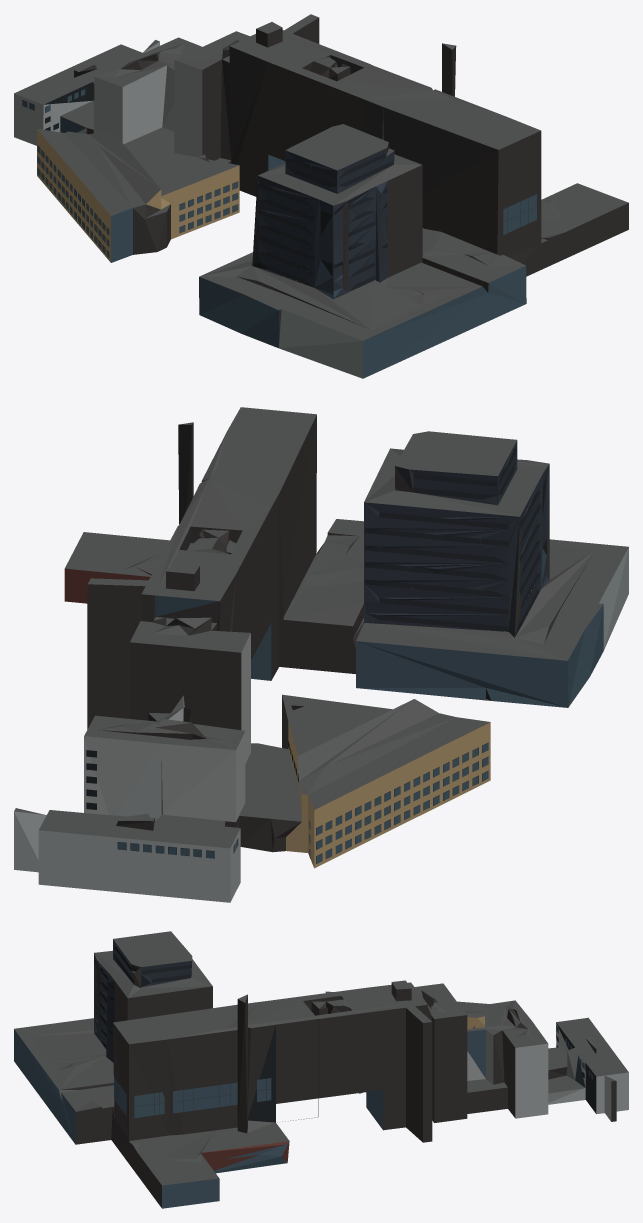
File: roeterseiland-rec-a.lod2.glb
The picture shows the model from 3 angles, top to bottom: view 1: azimuth 30°, elevation 25°; view 2: azimuth 150°, elevation 25°; view 3: azimuth 270°, elevation 25°; orthographic projection. The views are drawn at different scales.
Visible parts, largest first — view 1: lod2; view 2: lod2; view 3: lod2.
Part boxes in pixels (box(x1,y1,x2,y2)): lod2: box(14, 14, 628, 378); lod2: box(14, 407, 628, 902); lod2: box(14, 931, 628, 1208).
Bounding box in the file's own units: 143 × 59.25 × 210.
